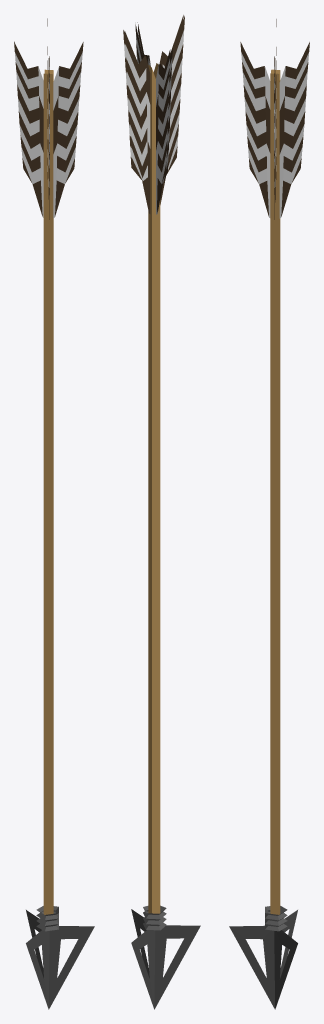
File: Arrow_5.fbx
The picture shows the model from 3 angles, left to right: view 1: azimuth 90°, elevation 25°; view 2: azimuth 210°, elevation 25°; view 3: azimuth 270°, elevation 25°; orthographic projection.
Visible parts, largest first — view 1: Comp_Arrow_05; view 2: Comp_Arrow_05; view 3: Comp_Arrow_05.
Boxes of the visible parts, x1,y1,x2,y2 form: Comp_Arrow_05: (14,18,94,1009); Comp_Arrow_05: (123,15,200,1009); Comp_Arrow_05: (229,19,309,1009).
Bounding box in the file's own units: 13.38 × 181 × 13.55.
